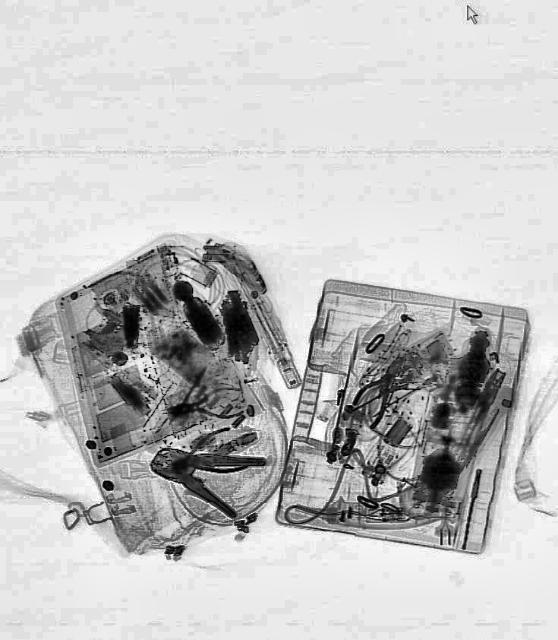Pliers: (142, 423, 268, 523), (344, 344, 420, 430), (163, 422, 248, 490), (157, 384, 247, 428)
